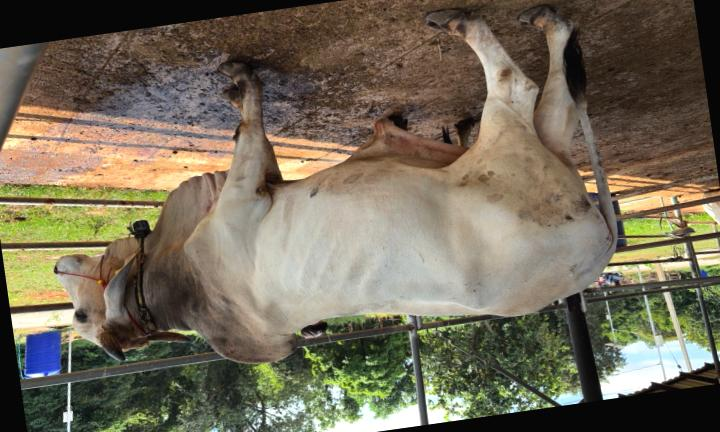Brahman: (55, 6, 616, 364)
